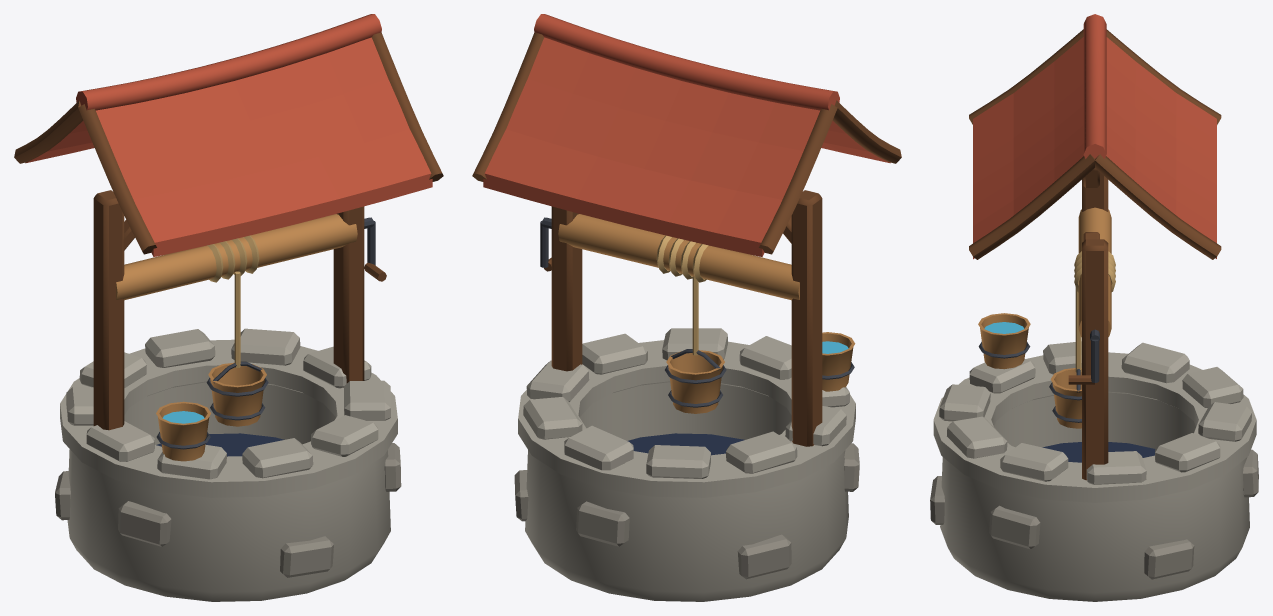
File: prop_well.glb
3 views of the same model, side by side, from view 1: azimuth 30°, elevation 25°; view 2: azimuth 150°, elevation 25°; view 3: azimuth 270°, elevation 25° (orthographic). The views are drawn at different scales.
Visible parts, largest first — view 1: Well; view 2: Well; view 3: Well.
Part boxes in pixels (x1,y1,x2,y2): Well: [14, 14, 443, 601]; Well: [472, 14, 901, 601]; Well: [930, 14, 1258, 601].
Size of what is drawn, in the model's own units: 2.01 by 3.1 by 1.99.
